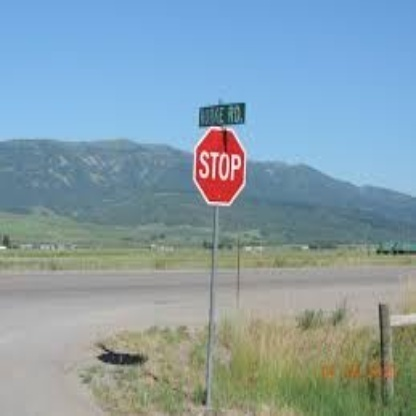stop: (194, 128, 245, 206)
